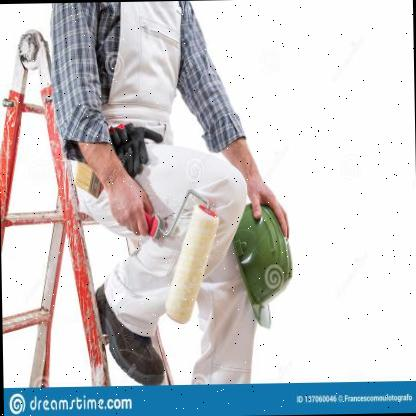bota: (92, 281, 166, 388)
